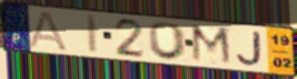2: (114, 17, 146, 60)
A: (27, 10, 70, 53)
I: (85, 14, 100, 55)
J: (235, 31, 264, 68)
M: (189, 23, 235, 68)
O: (148, 21, 190, 61)
